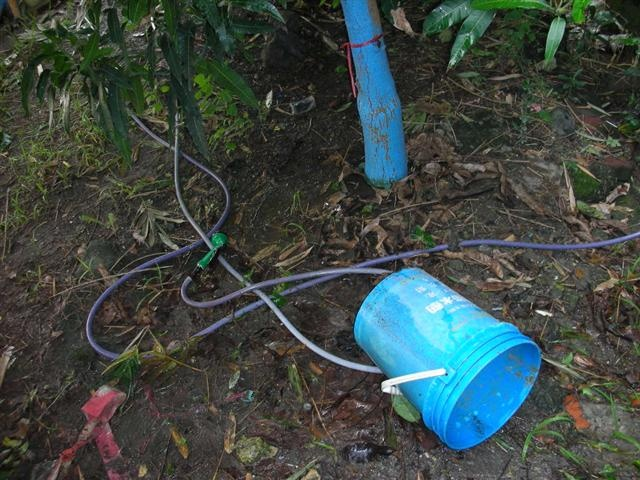bucket: (351, 266, 543, 451)
